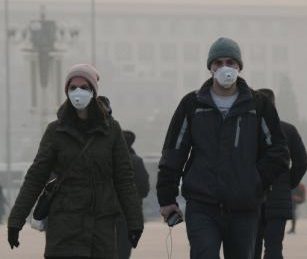person: (155, 35, 288, 259), (4, 62, 151, 259), (255, 86, 305, 259), (119, 128, 152, 198), (287, 180, 304, 235), (1, 185, 11, 225)
